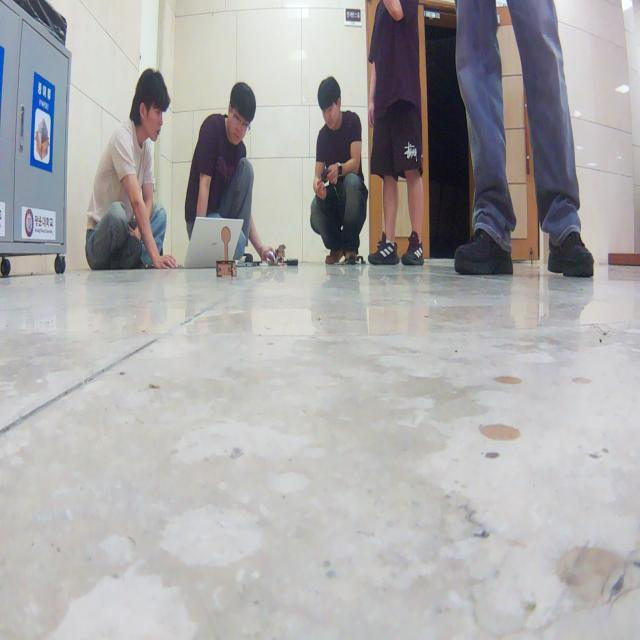target: (215, 227, 238, 278)
